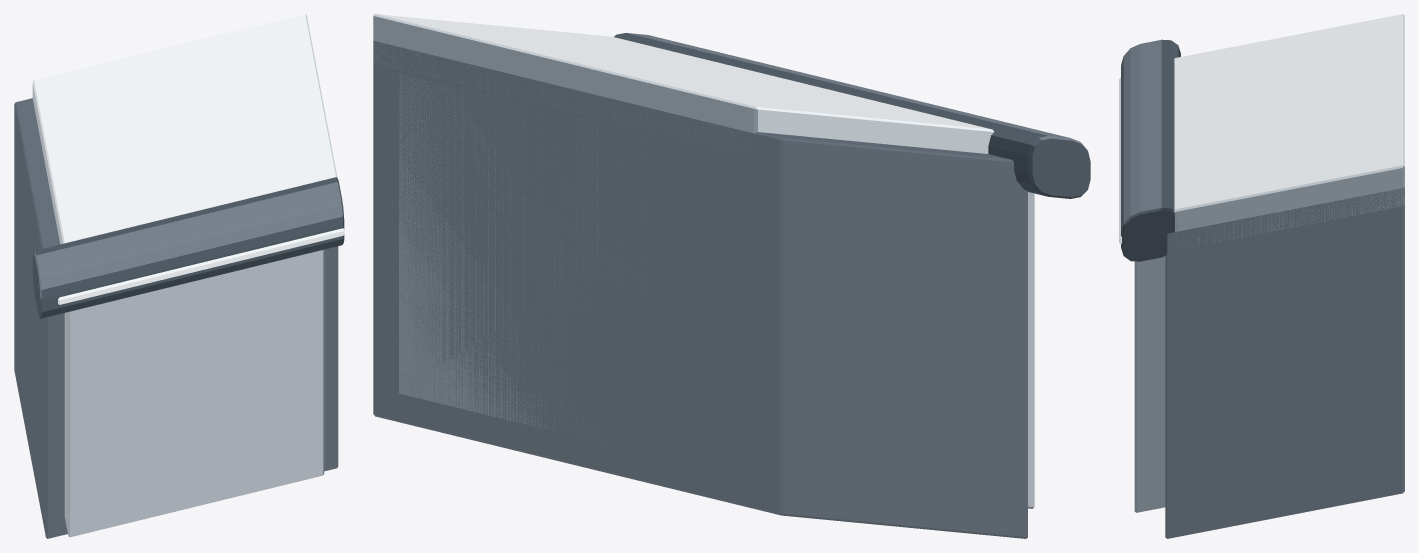
Rendered from Terrain_TopRun1L.gltf.
3 views of the same model, side by side, from view 1: azimuth 30°, elevation 25°; view 2: azimuth 150°, elevation 25°; view 3: azimuth 270°, elevation 25° (orthographic). The views are drawn at different scales.
Visible parts, largest first — view 1: Terrain_TopRun1L_baked; view 2: Terrain_TopRun1L_baked; view 3: Terrain_TopRun1L_baked.
Part boxes in pixels (left/top/right/bottom): Terrain_TopRun1L_baked: left=14, top=14, right=344, bottom=538; Terrain_TopRun1L_baked: left=373, top=14, right=1090, bottom=538; Terrain_TopRun1L_baked: left=1119, top=14, right=1404, bottom=538.
Bounding box in the file's own units: 1.33 × 1.18 × 0.74.
